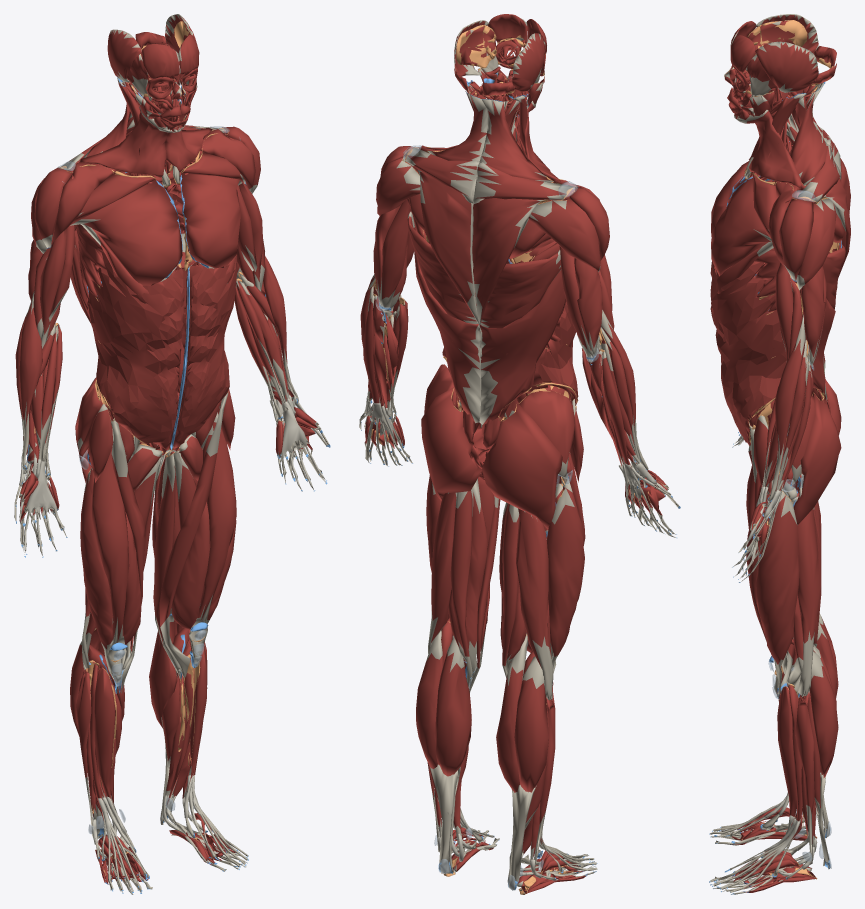
File: adult_male.muscular.LOD3.glb
3 renders of one model, left to right at view 1: azimuth 30°, elevation 25°; view 2: azimuth 150°, elevation 25°; view 3: azimuth 270°, elevation 25°, orthographic.
Visible parts, largest first — view 1: ADULT.MALE.MUSCULAR.EXTERNAL_ABDOMINAL_OBLIQUE_MUSCLE.R, ADULT.MALE.MUSCULAR.STERNOCOSTAL_HEAD_OF_PECTORALIS_MAJOR_MU (×2), ADULT.MALE.MUSCULAR.EXTERNAL_ABDOMINAL_OBLIQUE_MUSCLE.L, ADULT.MALE.MUSCULAR.RECTUS_FEMORIS_MUSCLE.R, ADULT.MALE.MUSCULAR.RECTUS_FEMORIS_MUSCLE.L, ADULT.MALE.MUSCULAR.SARTORIUS_MUSCLE.L, ADULT.MALE.MUSCULAR.VASTUS_LATERALIS_MUSCLE.R, ADULT.MALE.MUSCULAR.PLATYSMA.R, ADULT.MALE.MUSCULAR.VASTUS_MEDIALIS_MUSCLE.L, ADULT.MALE.MUSCULAR.CLAVICULAR_HEAD_OF_PECTORALIS_MAJOR_MUSC (×2), ADULT.MALE.MUSCULAR.GRACILIS_MUSCLE.L, ADULT.MALE.MUSCULAR.SARTORIUS_MUSCLE.R (+42 smaller); view 2: ADULT.MALE.MUSCULAR.LATISSIMUS_DORSI_MUSCLE.R, ADULT.MALE.MUSCULAR.GLUTEUS_MAXIMUS_MUSCLE.R, ADULT.MALE.MUSCULAR.LATISSIMUS_DORSI_MUSCLE.L, ADULT.MALE.MUSCULAR.DESCENDING_PART_OF_TRAPEZIUS_MUSCLE.L, ADULT.MALE.MUSCULAR.VASTUS_LATERALIS_MUSCLE.R, ADULT.MALE.MUSCULAR.LONG_HEAD_OF_BICEPS_FEMORIS.R, ADULT.MALE.MUSCULAR.DESCENDING_PART_OF_TRAPEZIUS_MUSCLE.R, ADULT.MALE.MUSCULAR.GLUTEUS_MAXIMUS_MUSCLE.L, ADULT.MALE.MUSCULAR.MEDIAL_HEAD_OF_GASTROCNEMIUS.L, ADULT.MALE.MUSCULAR.LATERAL_HEAD_OF_GASTROCNEMIUS.R, ADULT.MALE.MUSCULAR.SCAPULAR_SPINAL_PART_OF_DELTOID_MUSCLE.R, ADULT.MALE.MUSCULAR.SEMITENDINOSUS_MUSCLE.L (+32 smaller); view 3: ADULT.MALE.MUSCULAR.EXTERNAL_ABDOMINAL_OBLIQUE_MUSCLE.L, ADULT.MALE.MUSCULAR.VASTUS_LATERALIS_MUSCLE.L, ADULT.MALE.MUSCULAR.STERNOCOSTAL_HEAD_OF_PECTORALIS_MAJOR_MU (×2), ADULT.MALE.MUSCULAR.LONG_HEAD_OF_BICEPS_FEMORIS.L, ADULT.MALE.MUSCULAR.GLUTEUS_MAXIMUS_MUSCLE.L, ADULT.MALE.MUSCULAR.TEMPOROPARIETALIS_MUSCLE.L, ADULT.MALE.MUSCULAR.LATERAL_HEAD_OF_GASTROCNEMIUS.L, ADULT.MALE.MUSCULAR.PLATYSMA.L, ADULT.MALE.MUSCULAR.BRACHIORADIALIS_MUSCLE.L, ADULT.MALE.MUSCULAR.ACROMIAL_PART_OF_DELTOID_MUSCLE.L, ADULT.MALE.MUSCULAR.SCAPULAR_SPINAL_PART_OF_DELTOID_MUSCLE.L, ADULT.MALE.MUSCULAR.ASCENDING_PART_OF_TRAPEZIUS_MUSCLE.L (+40 smaller).
Boxes of the visible parts, left/top/right/bottom form: ADULT.MALE.MUSCULAR.EXTERNAL_ABDOMINAL_OBLIQUE_MUSCLE.R: left=87, top=251, right=184, bottom=444; ADULT.MALE.MUSCULAR.STERNOCOSTAL_HEAD_OF_PECTORALIS_MAJOR_MU (×2): left=70, top=173, right=241, bottom=285; ADULT.MALE.MUSCULAR.EXTERNAL_ABDOMINAL_OBLIQUE_MUSCLE.L: left=177, top=254, right=237, bottom=441; ADULT.MALE.MUSCULAR.RECTUS_FEMORIS_MUSCLE.R: left=91, top=429, right=129, bottom=686; ADULT.MALE.MUSCULAR.RECTUS_FEMORIS_MUSCLE.L: left=189, top=412, right=236, bottom=663; ADULT.MALE.MUSCULAR.SARTORIUS_MUSCLE.L: left=159, top=392, right=228, bottom=677; ADULT.MALE.MUSCULAR.VASTUS_LATERALIS_MUSCLE.R: left=80, top=468, right=114, bottom=680; ADULT.MALE.MUSCULAR.PLATYSMA.R: left=79, top=107, right=177, bottom=177; ADULT.MALE.MUSCULAR.VASTUS_MEDIALIS_MUSCLE.L: left=171, top=502, right=209, bottom=652; ADULT.MALE.MUSCULAR.CLAVICULAR_HEAD_OF_PECTORALIS_MAJOR_MUSC (×2): left=70, top=152, right=245, bottom=225; ADULT.MALE.MUSCULAR.GRACILIS_MUSCLE.L: left=153, top=453, right=180, bottom=679; ADULT.MALE.MUSCULAR.SARTORIUS_MUSCLE.R: left=110, top=418, right=145, bottom=692; ADULT.MALE.MUSCULAR.LATISSIMUS_DORSI_MUSCLE.R: left=479, top=250, right=566, bottom=424; ADULT.MALE.MUSCULAR.GLUTEUS_MAXIMUS_MUSCLE.R: left=482, top=402, right=562, bottom=529; ADULT.MALE.MUSCULAR.LATISSIMUS_DORSI_MUSCLE.L: left=407, top=211, right=481, bottom=423; ADULT.MALE.MUSCULAR.DESCENDING_PART_OF_TRAPEZIUS_MUSCLE.L: left=418, top=170, right=479, bottom=324; ADULT.MALE.MUSCULAR.VASTUS_LATERALIS_MUSCLE.R: left=546, top=477, right=584, bottom=668; ADULT.MALE.MUSCULAR.LONG_HEAD_OF_BICEPS_FEMORIS.R: left=516, top=508, right=553, bottom=700; ADULT.MALE.MUSCULAR.DESCENDING_PART_OF_TRAPEZIUS_MUSCLE.R: left=472, top=190, right=545, bottom=325; ADULT.MALE.MUSCULAR.GLUTEUS_MAXIMUS_MUSCLE.L: left=421, top=387, right=481, bottom=500; ADULT.MALE.MUSCULAR.MEDIAL_HEAD_OF_GASTROCNEMIUS.L: left=435, top=637, right=471, bottom=776; ADULT.MALE.MUSCULAR.LATERAL_HEAD_OF_GASTROCNEMIUS.R: left=514, top=656, right=548, bottom=792; ADULT.MALE.MUSCULAR.SCAPULAR_SPINAL_PART_OF_DELTOID_MUSCLE.R: left=528, top=198, right=600, bottom=271; ADULT.MALE.MUSCULAR.SEMITENDINOSUS_MUSCLE.L: left=450, top=490, right=472, bottom=686; ADULT.MALE.MUSCULAR.EXTERNAL_ABDOMINAL_OBLIQUE_MUSCLE.L: left=710, top=261, right=786, bottom=441; ADULT.MALE.MUSCULAR.VASTUS_LATERALIS_MUSCLE.L: left=756, top=491, right=799, bottom=694; ADULT.MALE.MUSCULAR.STERNOCOSTAL_HEAD_OF_PECTORALIS_MAJOR_MU (×2): left=711, top=161, right=772, bottom=276; ADULT.MALE.MUSCULAR.LONG_HEAD_OF_BICEPS_FEMORIS.L: left=797, top=508, right=821, bottom=696; ADULT.MALE.MUSCULAR.GLUTEUS_MAXIMUS_MUSCLE.L: left=793, top=393, right=841, bottom=525; ADULT.MALE.MUSCULAR.TEMPOROPARIETALIS_MUSCLE.L: left=755, top=41, right=818, bottom=92; ADULT.MALE.MUSCULAR.LATERAL_HEAD_OF_GASTROCNEMIUS.L: left=809, top=651, right=838, bottom=777; ADULT.MALE.MUSCULAR.PLATYSMA.L: left=734, top=110, right=801, bottom=187; ADULT.MALE.MUSCULAR.BRACHIORADIALIS_MUSCLE.L: left=767, top=314, right=805, bottom=502; ADULT.MALE.MUSCULAR.ACROMIAL_PART_OF_DELTOID_MUSCLE.L: left=779, top=198, right=813, bottom=280; ADULT.MALE.MUSCULAR.SCAPULAR_SPINAL_PART_OF_DELTOID_MUSCLE.L: left=796, top=199, right=836, bottom=290; ADULT.MALE.MUSCULAR.ASCENDING_PART_OF_TRAPEZIUS_MUSCLE.L: left=789, top=82, right=827, bottom=185.
Bounding box in the file's own units: 0.6605 × 1.67 × 0.2575.
